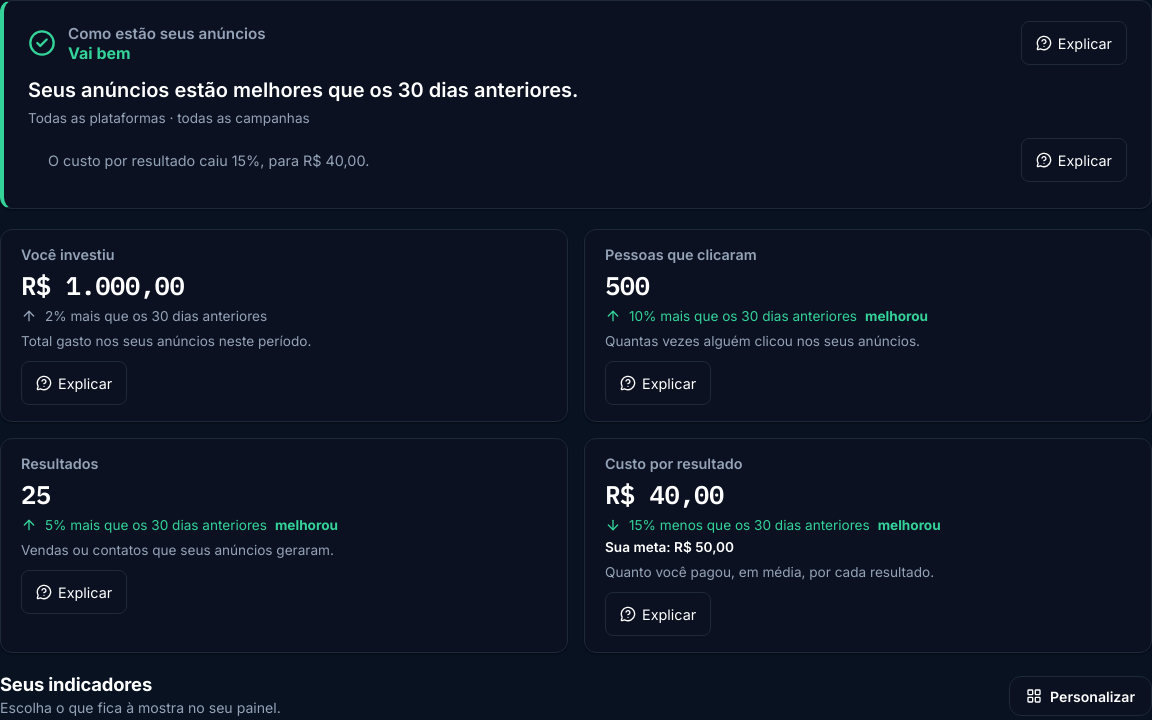
SimpleOverview › closes the panel when the filters change
The width and height of the screenshot is (1152, 720).
Click the button with aria-label "Explicar: Como estão seus anúncios". click: (1074, 43)
box: [1021,21,1127,65]
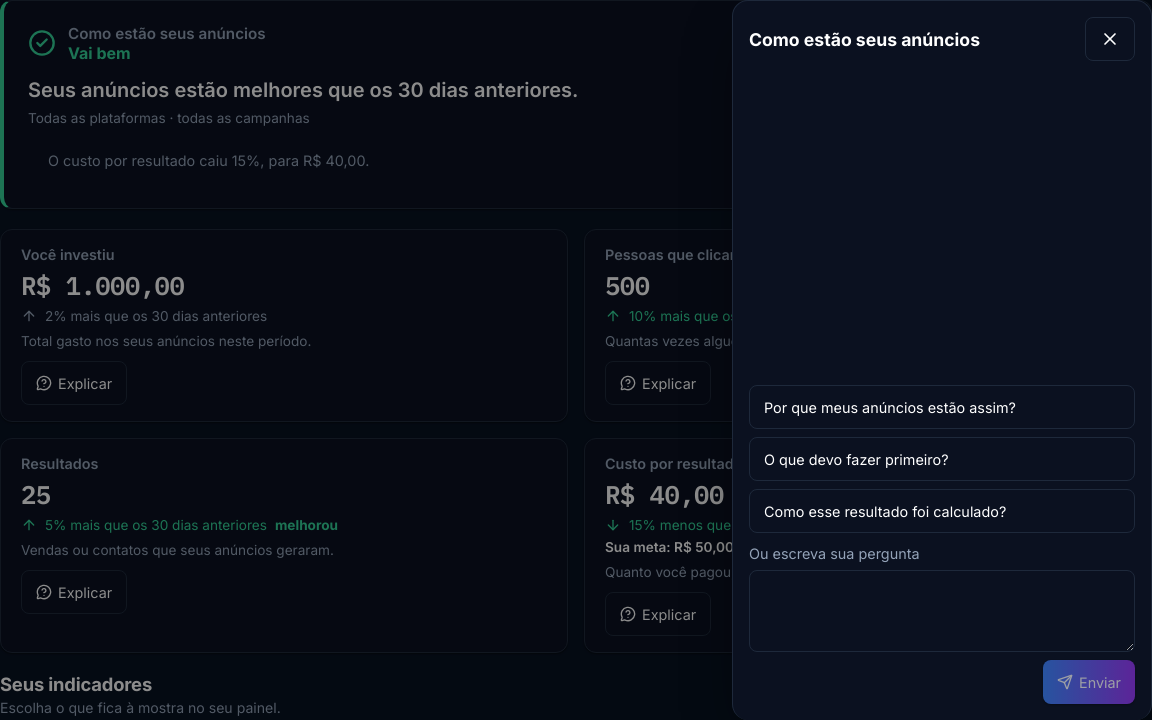
Now the dialog is shown, box [732,0,1151,719]
